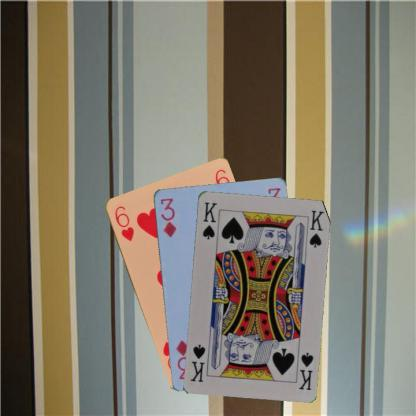3d: (158, 195, 177, 239)
6h: (112, 203, 135, 243)
Ks: (200, 199, 218, 240), (296, 350, 314, 391)
